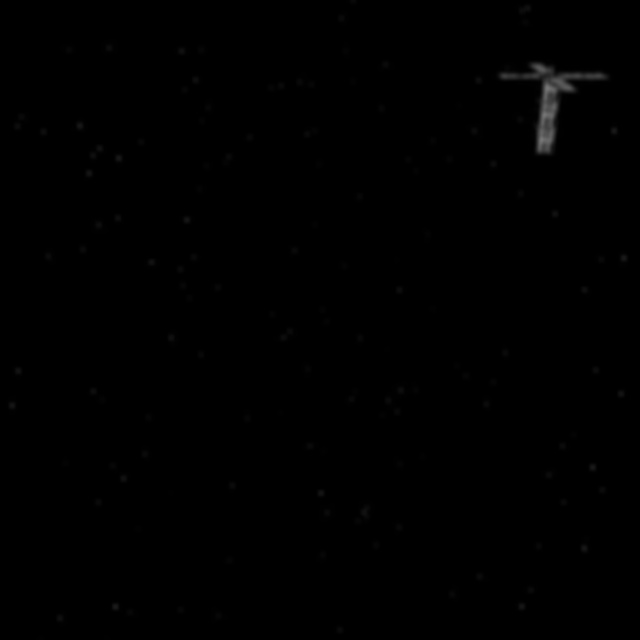satellite: (478, 38, 621, 165)
